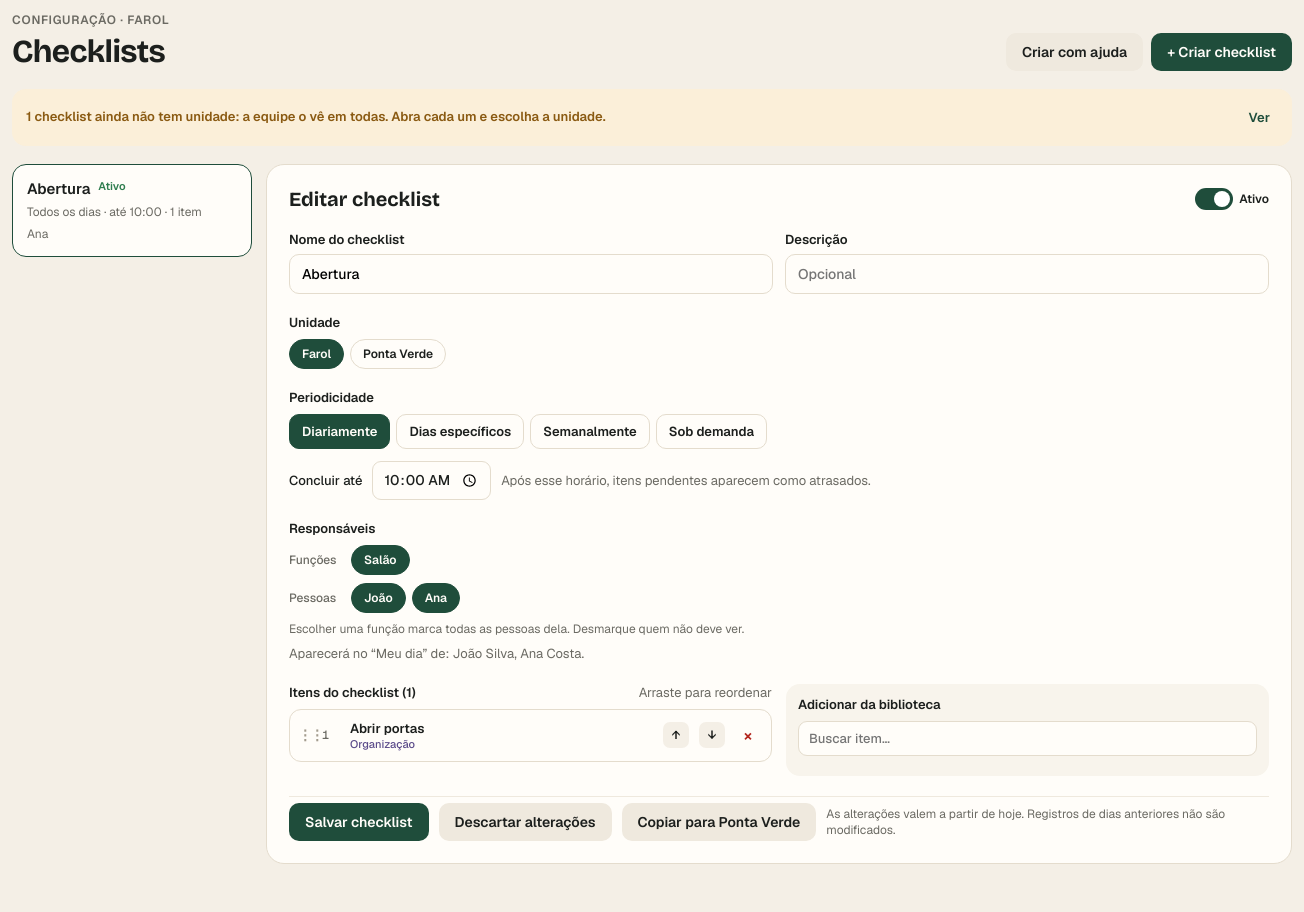
Test case: US20 — checklists por unidade › trocar a unidade tira quem não trabalha nela (borda)
Check: the button "João" is shown, box [351,583,406,613]
Step 1. Click the button "Ponta Verde" → [398, 354], box [350,339,446,369]
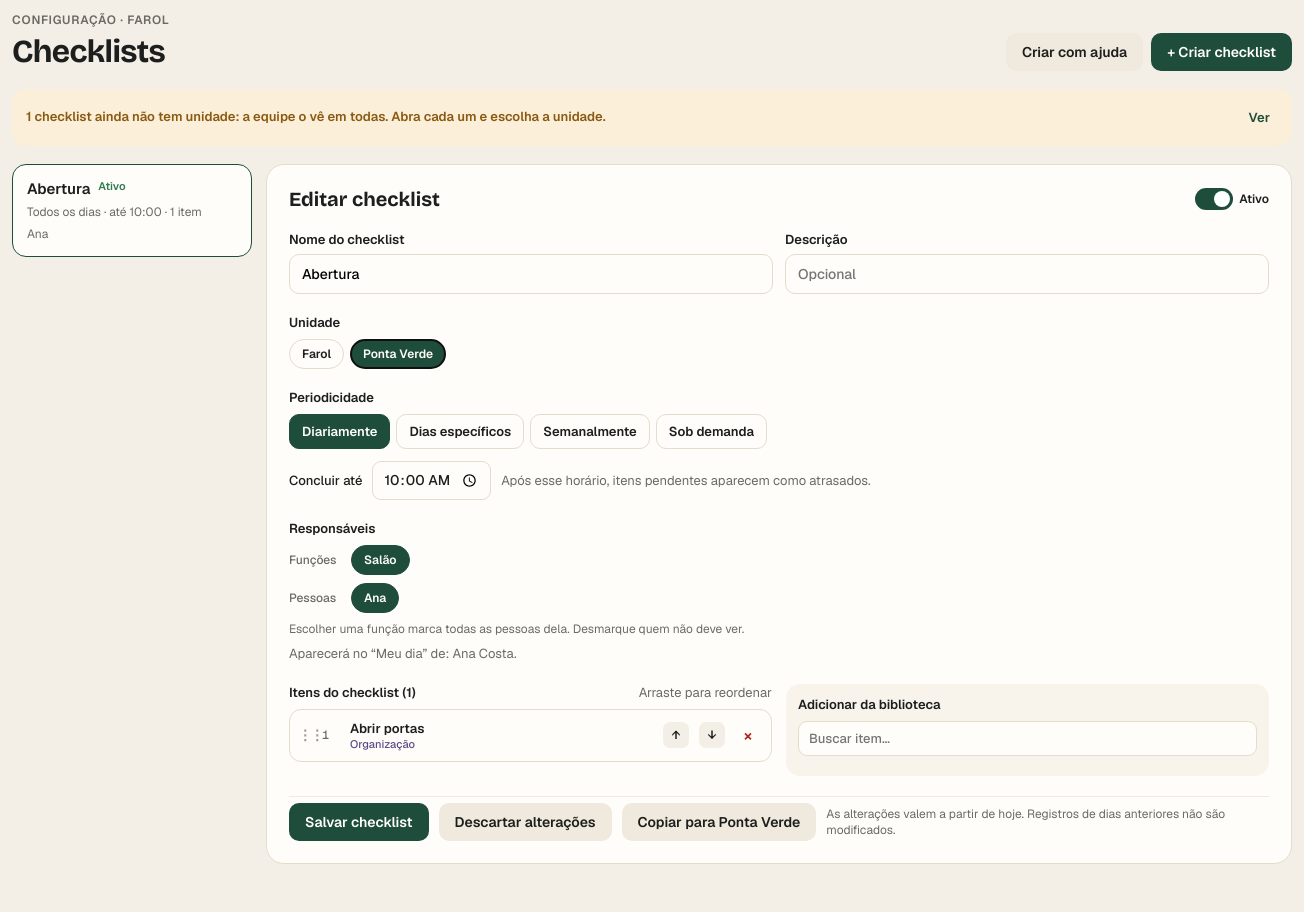
Step 2. Click the button "Salvar checklist" → [359, 822], box [289,802,429,840]
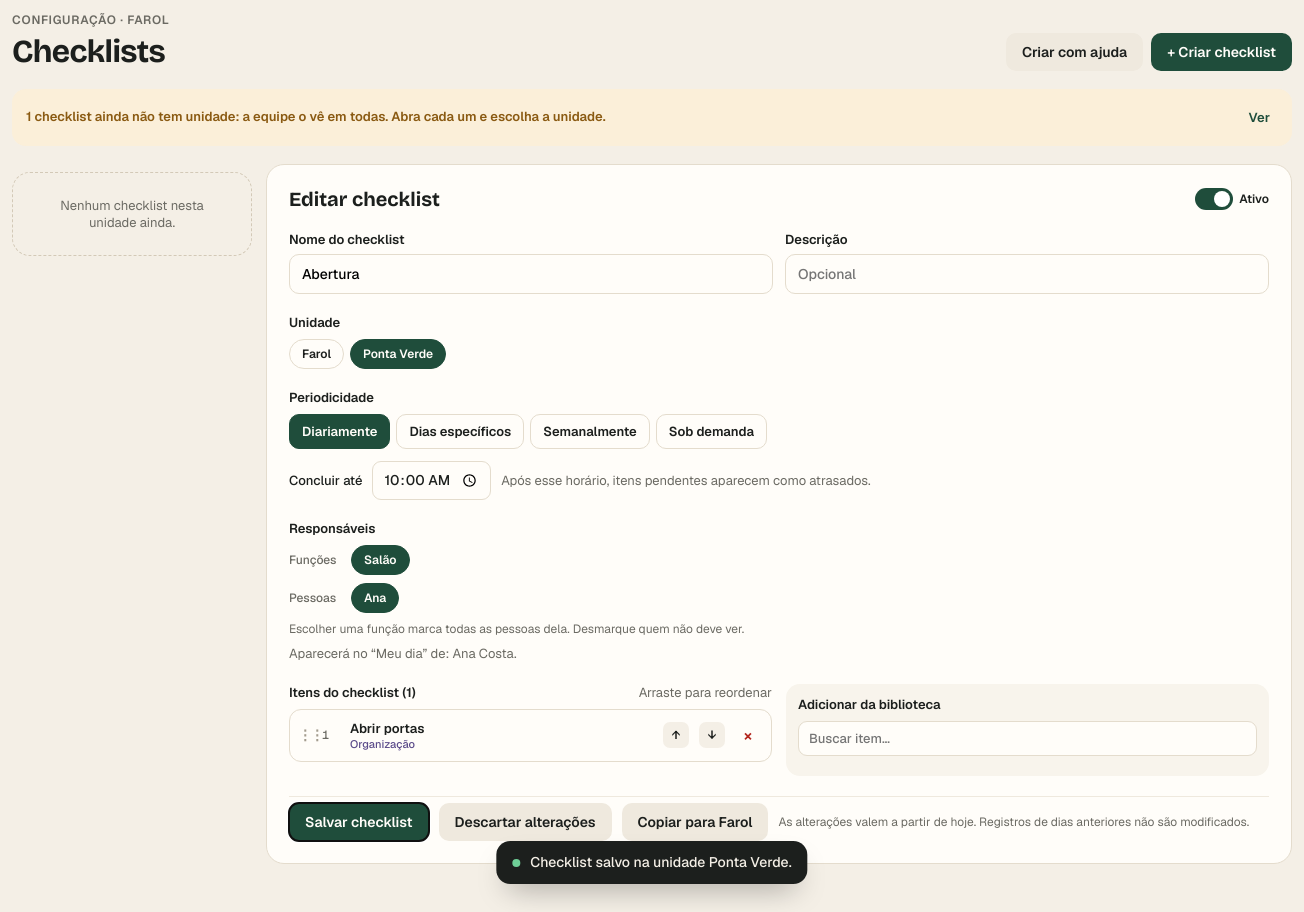
Check: the message reads "Checklist salvo na unidade Ponta Verde.", box [530,853,792,871]
